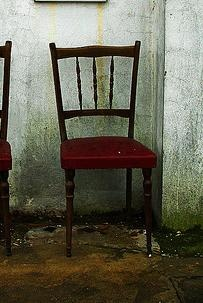obstacle: (49, 41, 156, 256)
